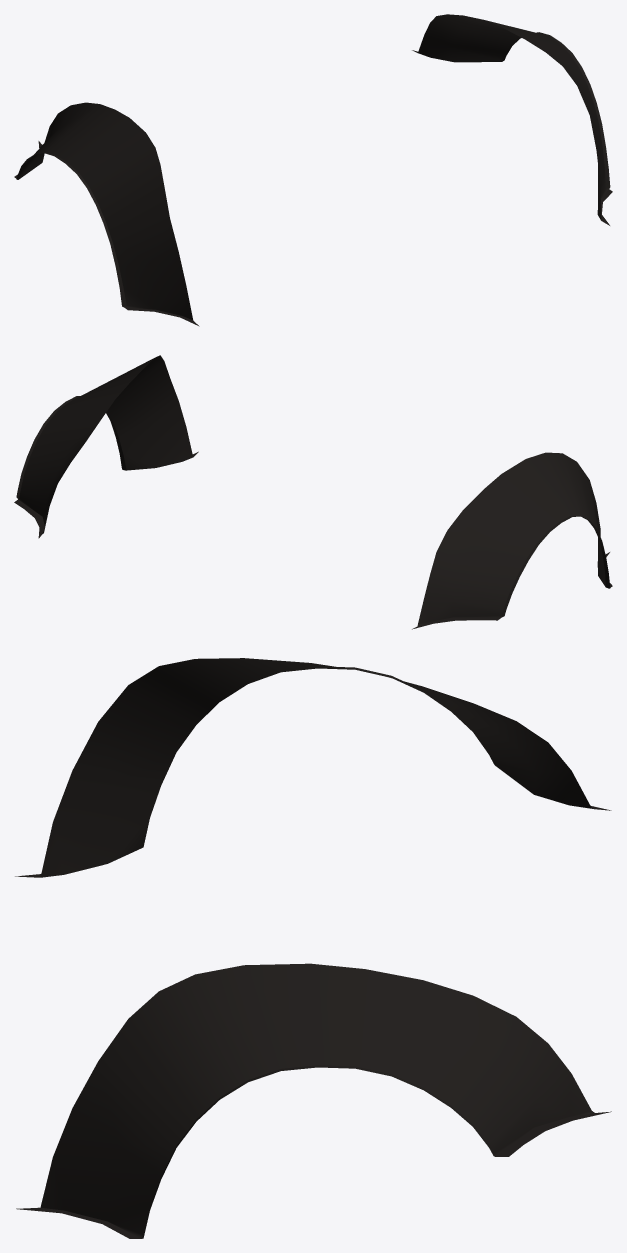
Rendered from RWB_RF_01_Trim.fbx.
3 views of the same model, one above another, from view 1: azimuth 30°, elevation 25°; view 2: azimuth 150°, elevation 25°; view 3: azimuth 270°, elevation 25° (orthographic). The views are drawn at different scales.
Parts seen in each view (by area): view 1: RWB_RF_01_Trim; view 2: RWB_RF_01_Trim; view 3: RWB_RF_01_Trim.
Boxes of the visible parts, bbox=[...] form: RWB_RF_01_Trim: bbox=[14, 14, 612, 326]; RWB_RF_01_Trim: bbox=[14, 355, 612, 629]; RWB_RF_01_Trim: bbox=[15, 658, 611, 1238].
Size of the model in its own units: 186 by 49.99 by 117.
